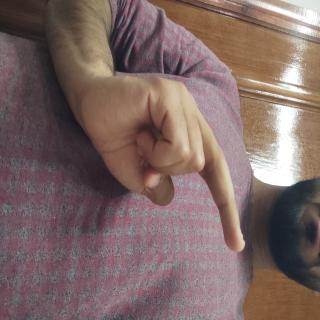ZAY: (45, 90, 199, 320)
